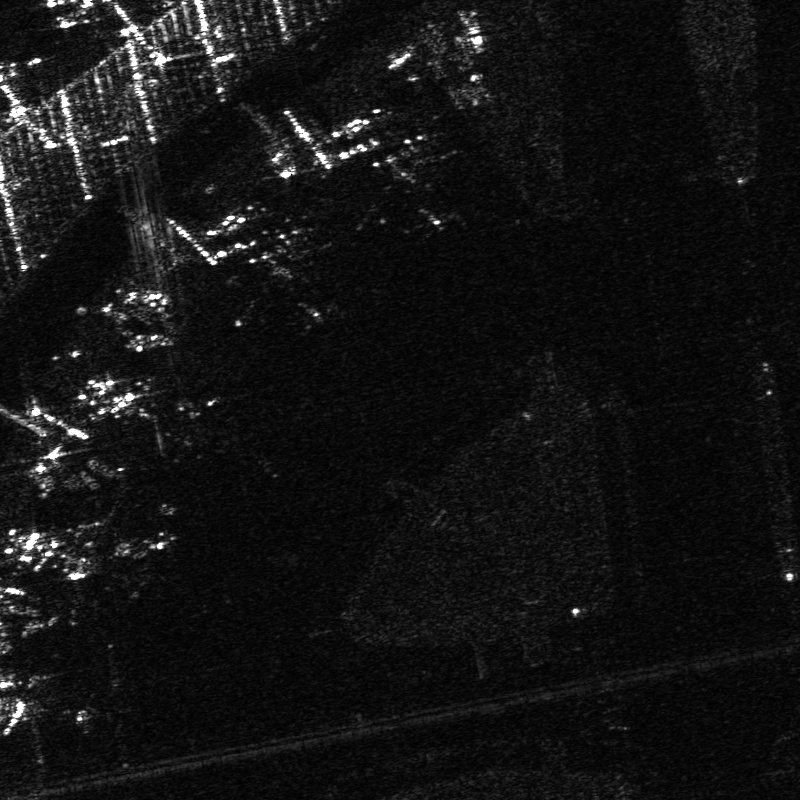Boeing787: (236, 238, 334, 325), (136, 383, 222, 469)
other: (355, 144, 459, 231), (18, 670, 94, 746)
